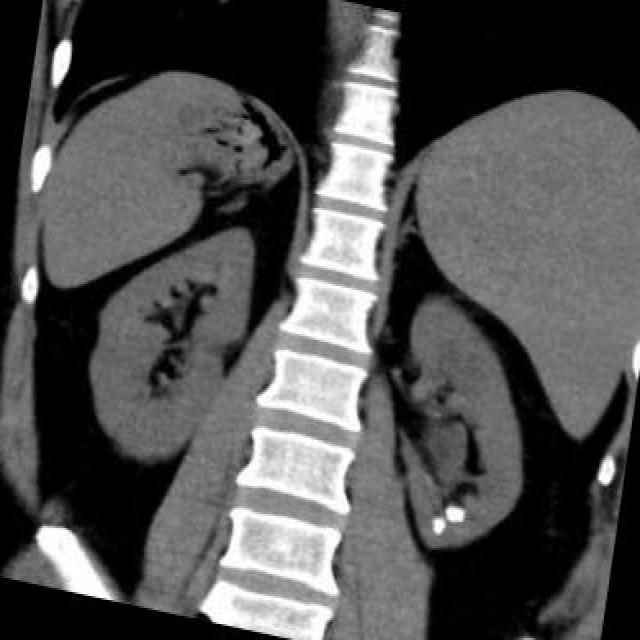Tas_Var: (440, 500, 468, 524), (426, 513, 446, 539)
